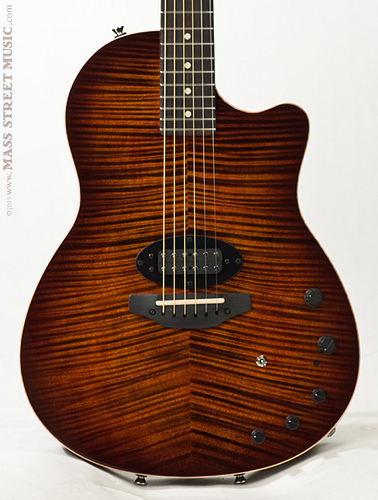guitar: (20, 1, 361, 485)
